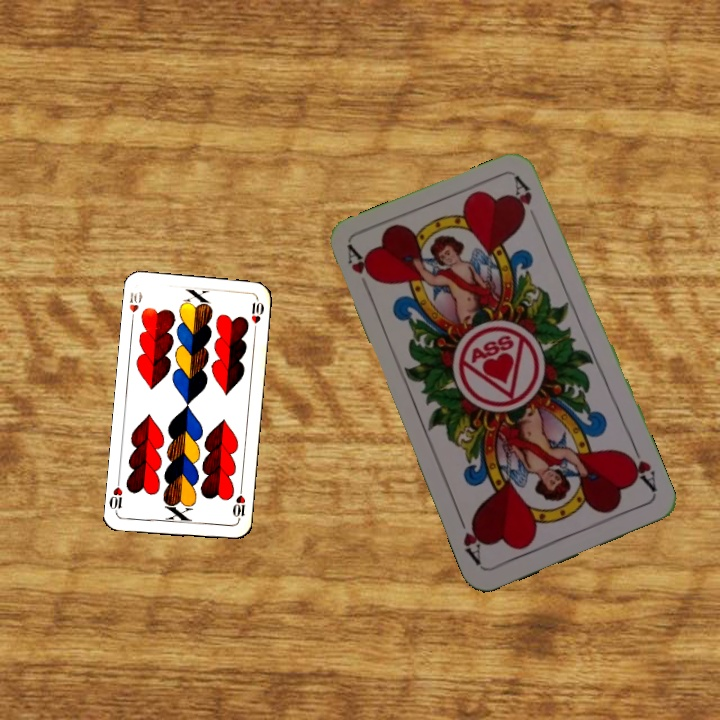H10: (228, 484, 248, 524), (125, 288, 145, 326)
HA: (620, 441, 660, 497), (343, 242, 380, 299)
